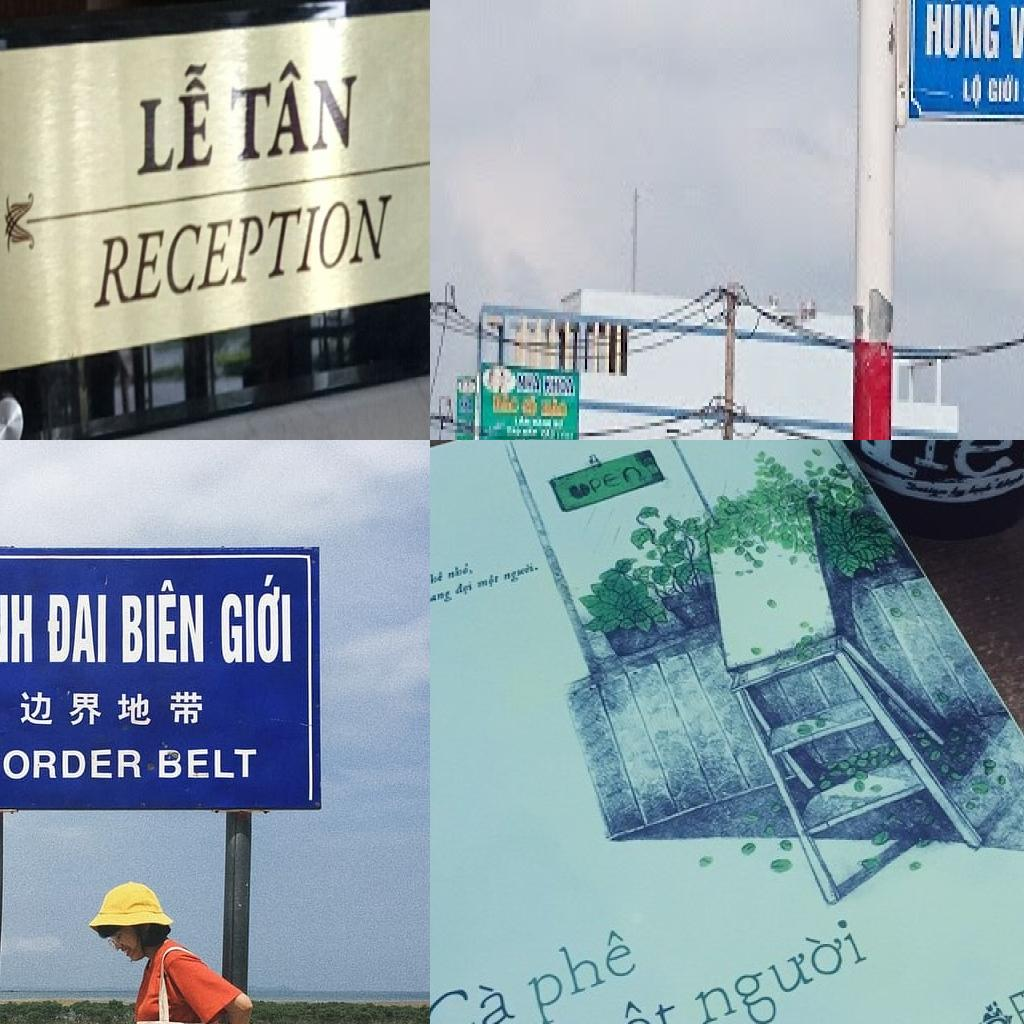text: (687, 915, 884, 1024), (224, 40, 362, 175), (519, 923, 642, 1024), (132, 53, 218, 185), (858, 440, 1024, 486), (120, 578, 206, 665), (220, 573, 293, 665), (554, 982, 690, 1024), (923, 0, 1005, 64), (0, 747, 144, 781), (46, 593, 109, 665), (430, 974, 519, 1024), (564, 461, 649, 507), (157, 746, 259, 781), (0, 577, 35, 665), (985, 72, 1021, 112), (502, 558, 544, 590), (961, 68, 987, 115), (444, 558, 476, 584), (476, 568, 502, 595), (430, 585, 455, 612), (452, 578, 474, 600), (430, 568, 447, 595)
